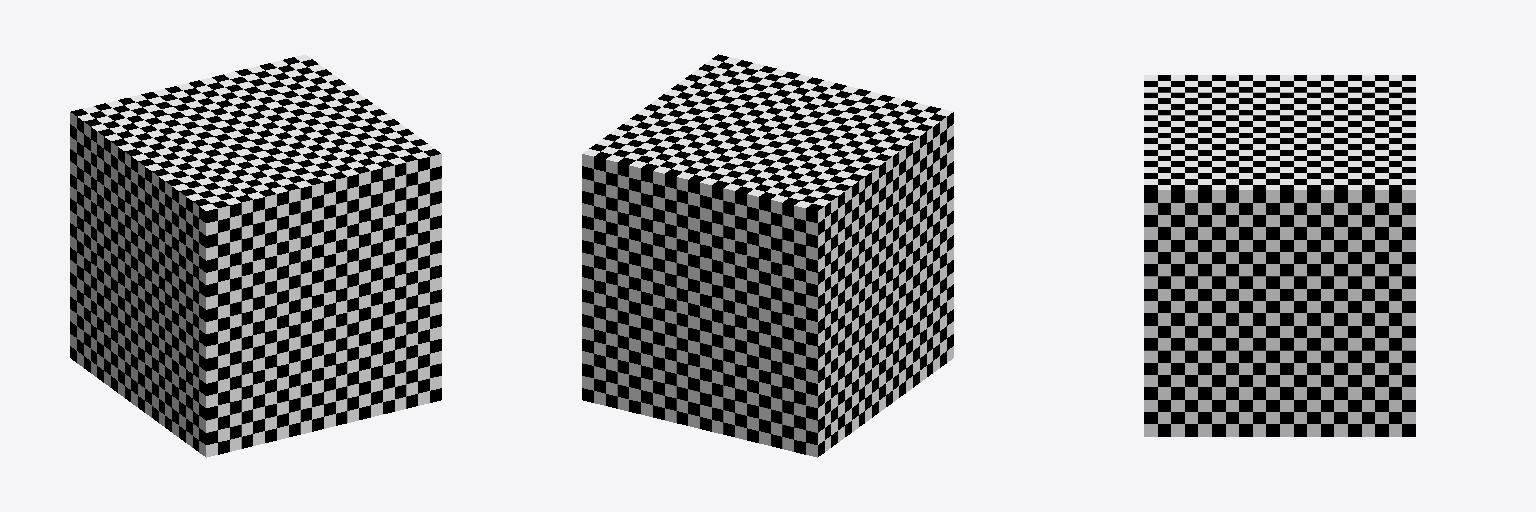
3 views of the same model, side by side, from view 1: azimuth 30°, elevation 25°; view 2: azimuth 150°, elevation 25°; view 3: azimuth 270°, elevation 25° (orthographic).
Parts seen in each view (by area): view 1: Cube_Cube.001; view 2: Cube_Cube.001; view 3: Cube_Cube.001.
Part boxes in pixels (bbox=[...]): Cube_Cube.001: bbox=[70, 54, 441, 457]; Cube_Cube.001: bbox=[582, 54, 953, 457]; Cube_Cube.001: bbox=[1144, 75, 1415, 436].
Size of the model in its own units: 2 by 2 by 2.
1 materials, 1 textured.